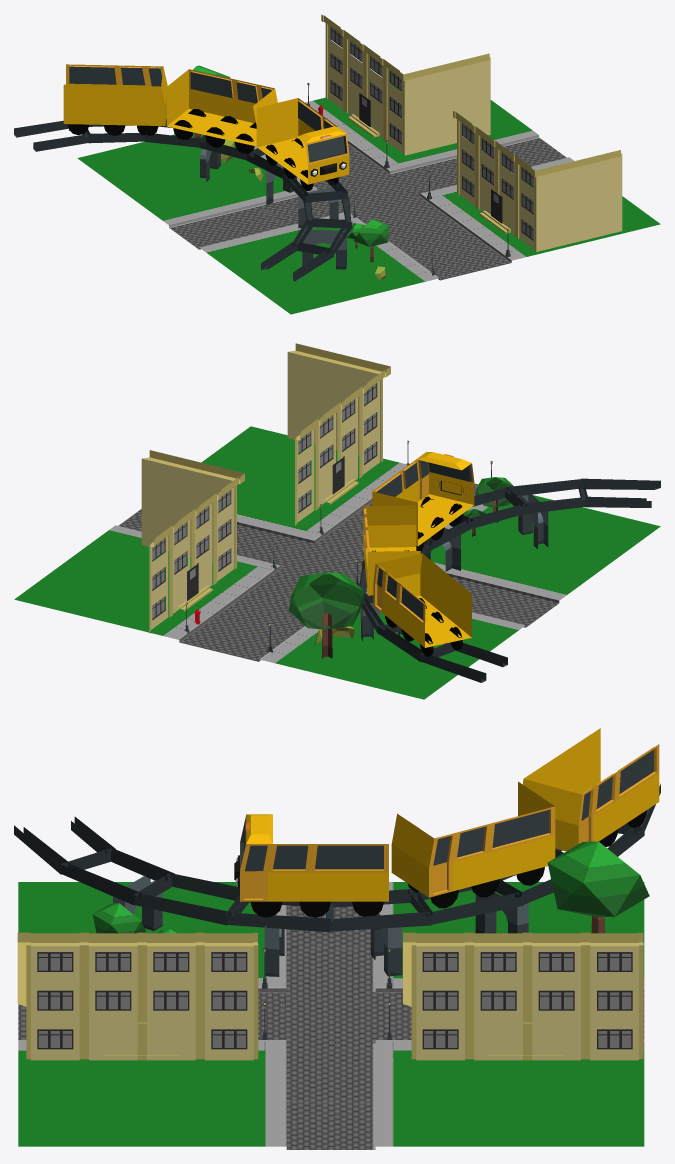
The picture shows the model from 3 angles, top to bottom: view 1: azimuth 30°, elevation 25°; view 2: azimuth 150°, elevation 25°; view 3: azimuth 270°, elevation 25°; orthographic projection. The views are drawn at different scales.
Visible parts, largest first — view 1: Road, Train, Building.001, Building.002, Tree.002; view 2: Road, Train, Building.002, Building.001, Tree.003, Tree.002; view 3: Road, Train, Building.001, Building.002, Tree.003, Tree.002.
Part boxes in pixels (x1,y1,x2,y2): Road: [77, 83, 660, 314]; Train: [14, 64, 352, 281]; Building.001: [453, 111, 622, 251]; Building.002: [321, 14, 490, 155]; Tree.002: [353, 219, 389, 262]; Road: [14, 426, 660, 699]; Train: [359, 452, 660, 682]; Building.002: [141, 450, 244, 633]; Building.001: [287, 343, 390, 525]; Tree.003: [288, 572, 364, 659]; Tree.002: [475, 477, 513, 522]; Road: [18, 882, 644, 1149]; Train: [14, 728, 660, 976]; Building.001: [17, 932, 258, 1060]; Building.002: [403, 932, 643, 1060]; Tree.003: [547, 841, 649, 933]; Tree.002: [92, 903, 145, 933].
Bounding box in the file's own units: 46.31 × 10.17 × 41.35.
2 materials, 2 textured.
